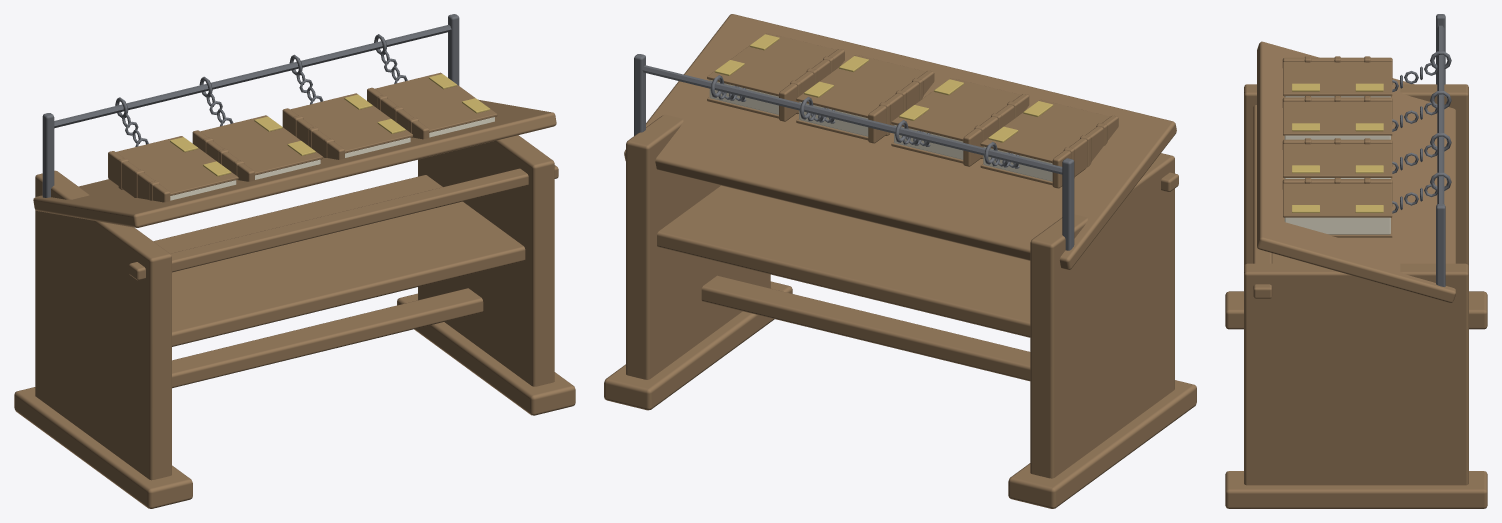
The model's file is chained-library-des.glb.
The picture shows the model from 3 angles, left to right: view 1: azimuth 30°, elevation 25°; view 2: azimuth 150°, elevation 25°; view 3: azimuth 270°, elevation 25°; orthographic projection. The views are drawn at different scales.
Visible parts, largest first — view 1: chained-library-desk; view 2: chained-library-desk; view 3: chained-library-desk.
Part boxes in pixels (x1,y1,x2,y2): chained-library-desk: (14,14,575,508); chained-library-desk: (604,14,1196,508); chained-library-desk: (1225,14,1487,508).
Bounding box in the file's own units: 1.52 × 1.06 × 0.8401.
